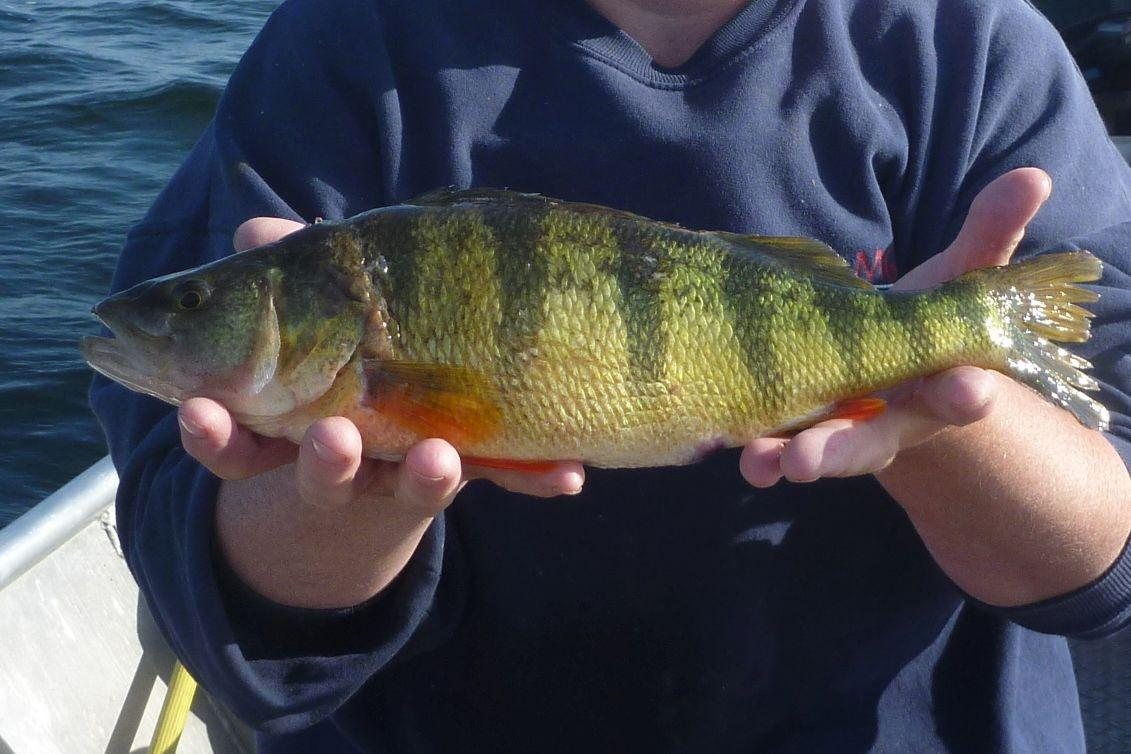Perch: (65, 192, 1116, 486)
